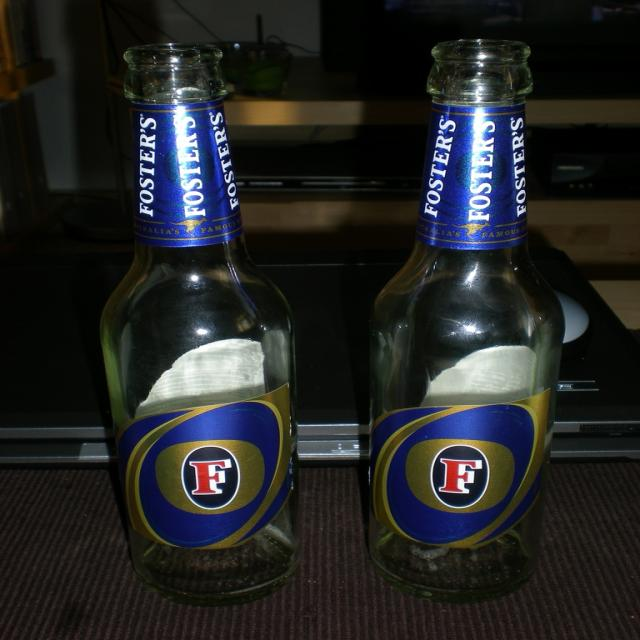fosters: (403, 437, 519, 517), (153, 438, 268, 518)
